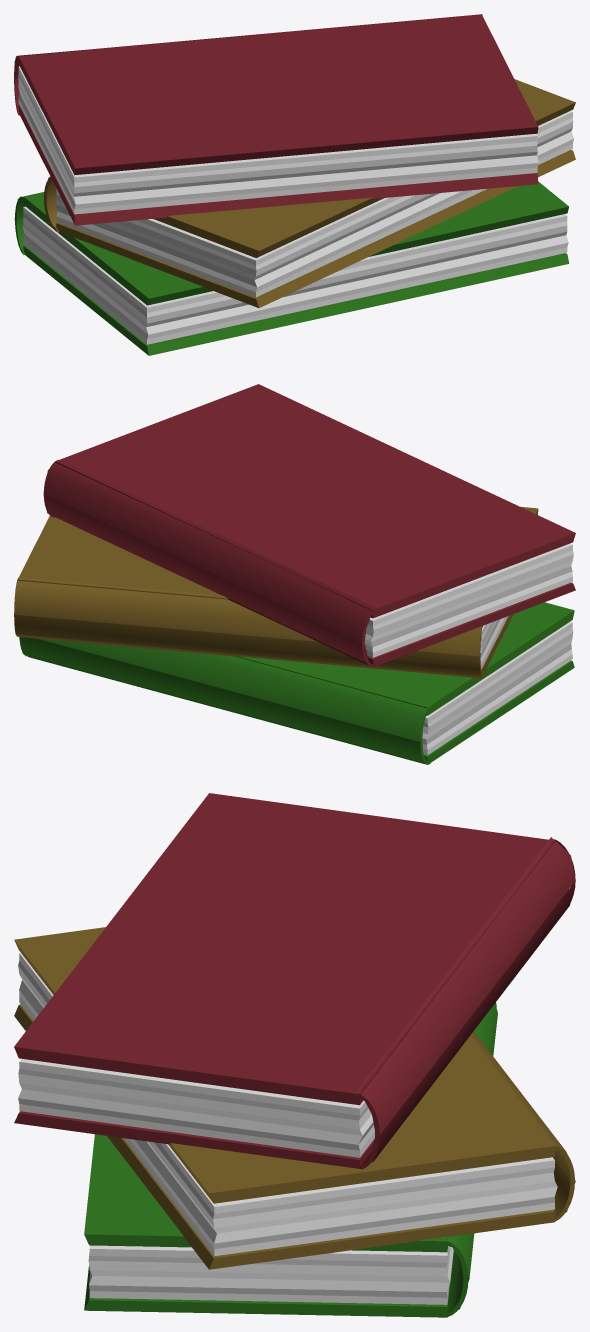
The model's file is books1.glb.
The picture shows the model from 3 angles, top to bottom: view 1: azimuth 30°, elevation 25°; view 2: azimuth 150°, elevation 25°; view 3: azimuth 270°, elevation 25°; orthographic projection. The views are drawn at different scales.
Visible parts, largest first — view 1: Cylinder.001; view 2: Cylinder.001; view 3: Cylinder.001.
Boxes of the visible parts, x1,y1,x2,y2 form: Cylinder.001: (14,14,575,355); Cylinder.001: (14,384,575,764); Cylinder.001: (14,793,575,1317).
Bounding box in the file's own units: 0.4258 × 0.1397 × 0.3104.
